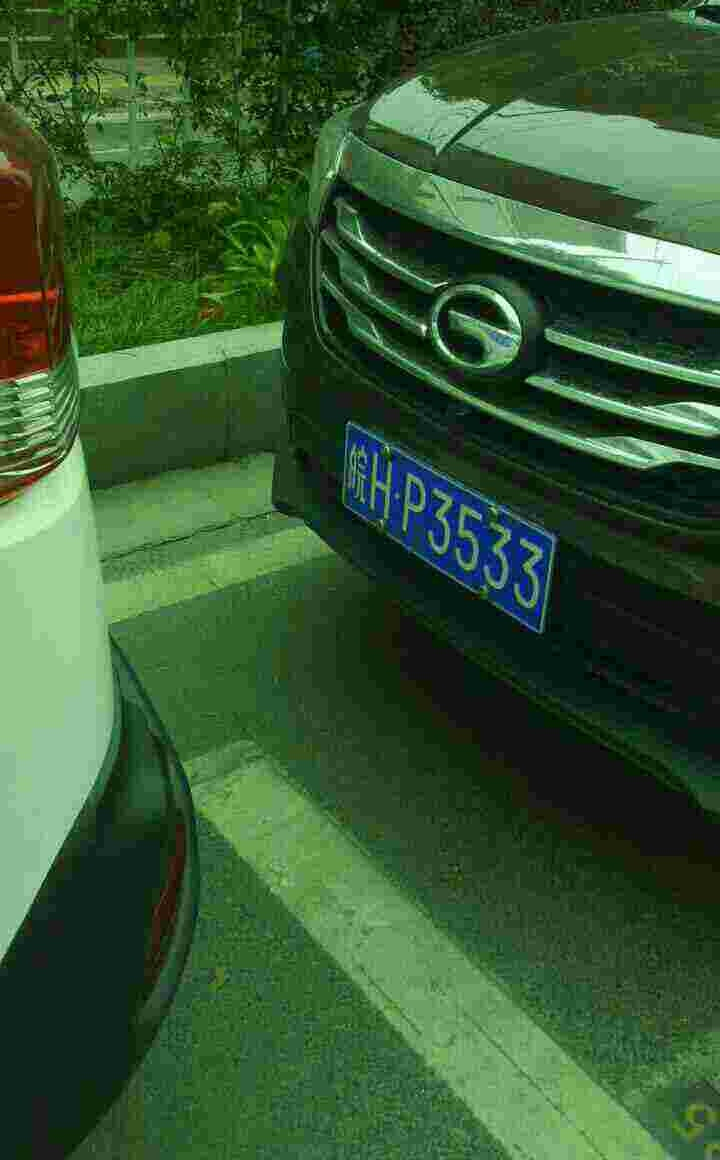license_plate: (323, 412, 552, 629)
